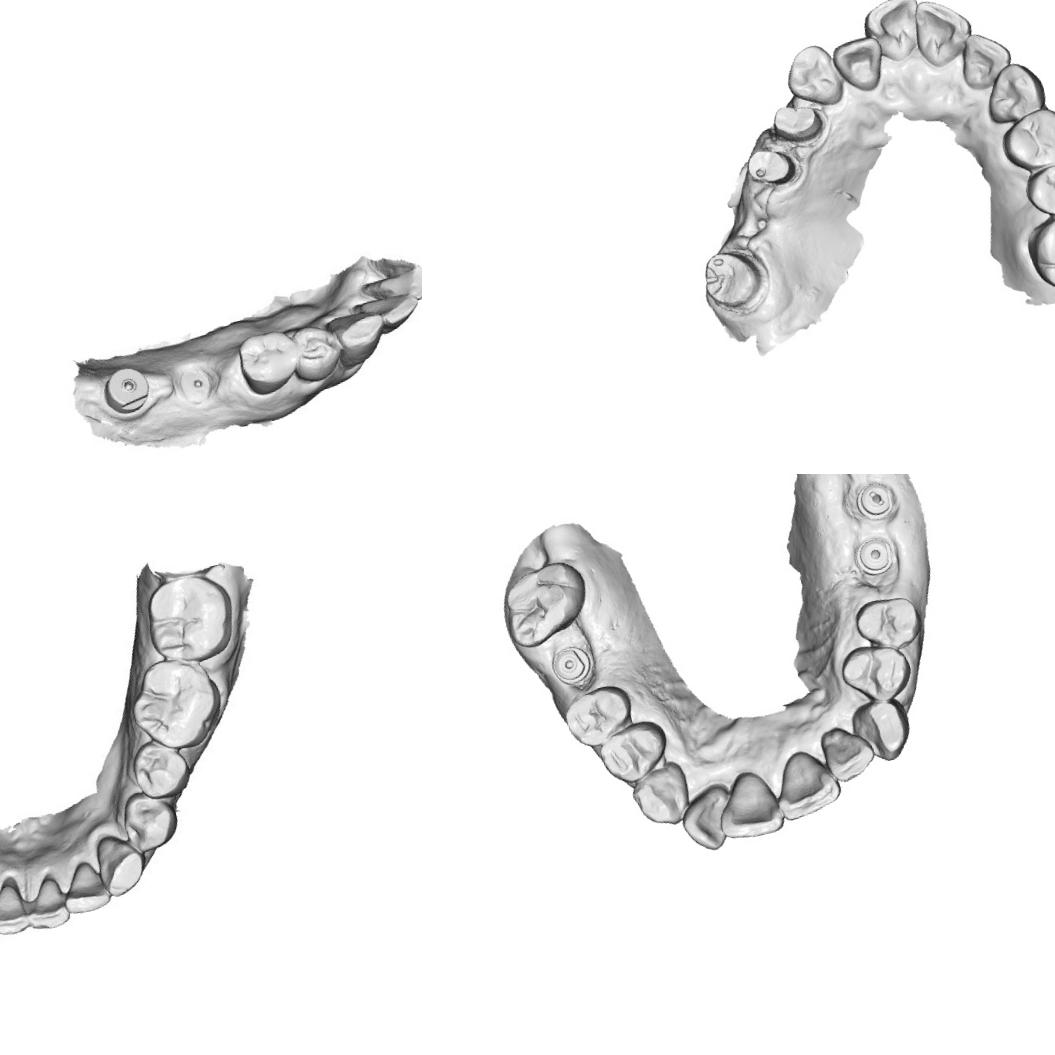canine: (847, 693, 919, 770), (777, 38, 848, 116), (976, 55, 1051, 128), (89, 826, 154, 902), (628, 764, 696, 832), (324, 304, 390, 369)
crown: (695, 240, 776, 318), (762, 92, 834, 154), (742, 138, 807, 196)
implant: (102, 360, 154, 418), (848, 530, 902, 581), (172, 358, 224, 408), (547, 642, 597, 690)
implant_minus: (849, 476, 899, 524)
incisor: (710, 764, 788, 846), (766, 745, 846, 824), (906, 0, 979, 73), (855, 0, 930, 68), (953, 24, 1018, 95), (673, 784, 737, 856), (828, 31, 892, 98), (351, 283, 422, 341), (819, 720, 880, 786), (19, 869, 76, 936), (58, 854, 112, 920), (0, 869, 36, 942), (369, 265, 422, 306)
molar: (121, 650, 230, 759), (137, 566, 242, 670), (492, 556, 596, 652), (1020, 203, 1055, 296)
premolar: (836, 636, 916, 710), (558, 681, 640, 753), (595, 717, 674, 789), (850, 588, 926, 656), (123, 734, 195, 804), (233, 325, 303, 396), (994, 100, 1055, 177), (116, 786, 180, 858), (291, 324, 343, 380), (1019, 155, 1055, 223)
